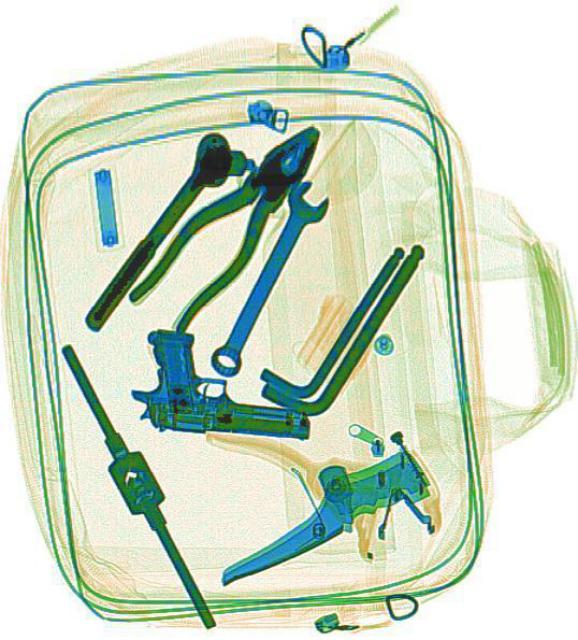Gun: (126, 326, 314, 440)
Pliers: (124, 100, 341, 342)
Wrench: (199, 170, 333, 380)
